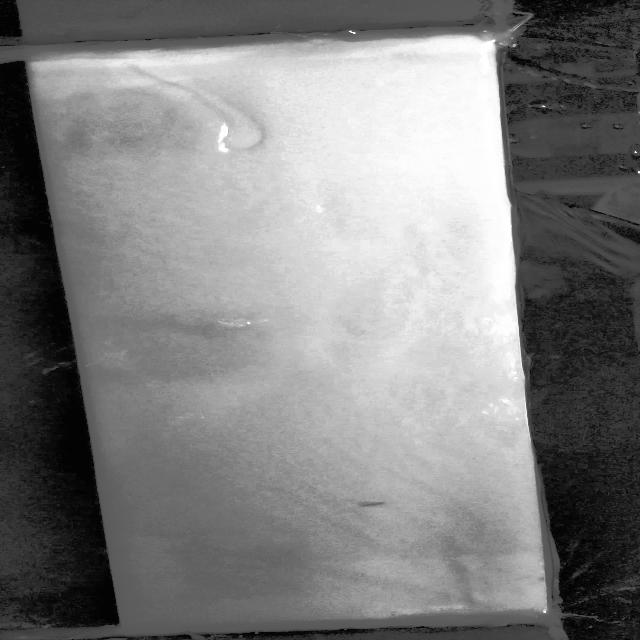shrimp: (349, 496, 398, 515)
